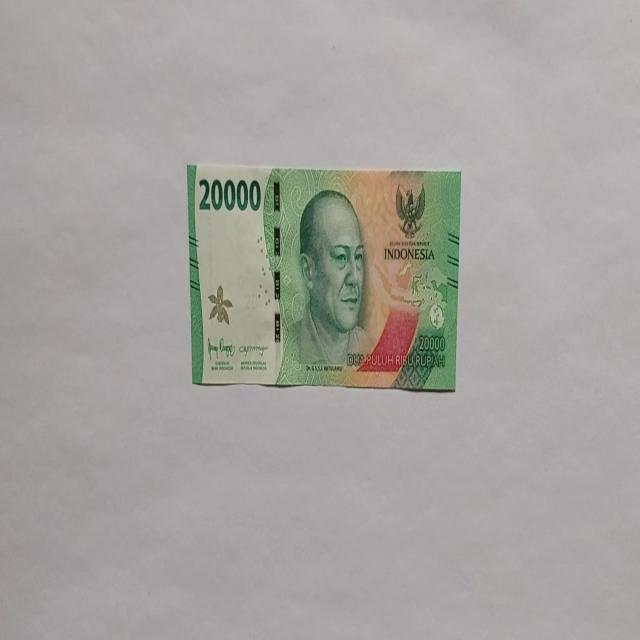dua puluh ribu rupiah: (186, 162, 462, 392), (275, 187, 377, 386)
